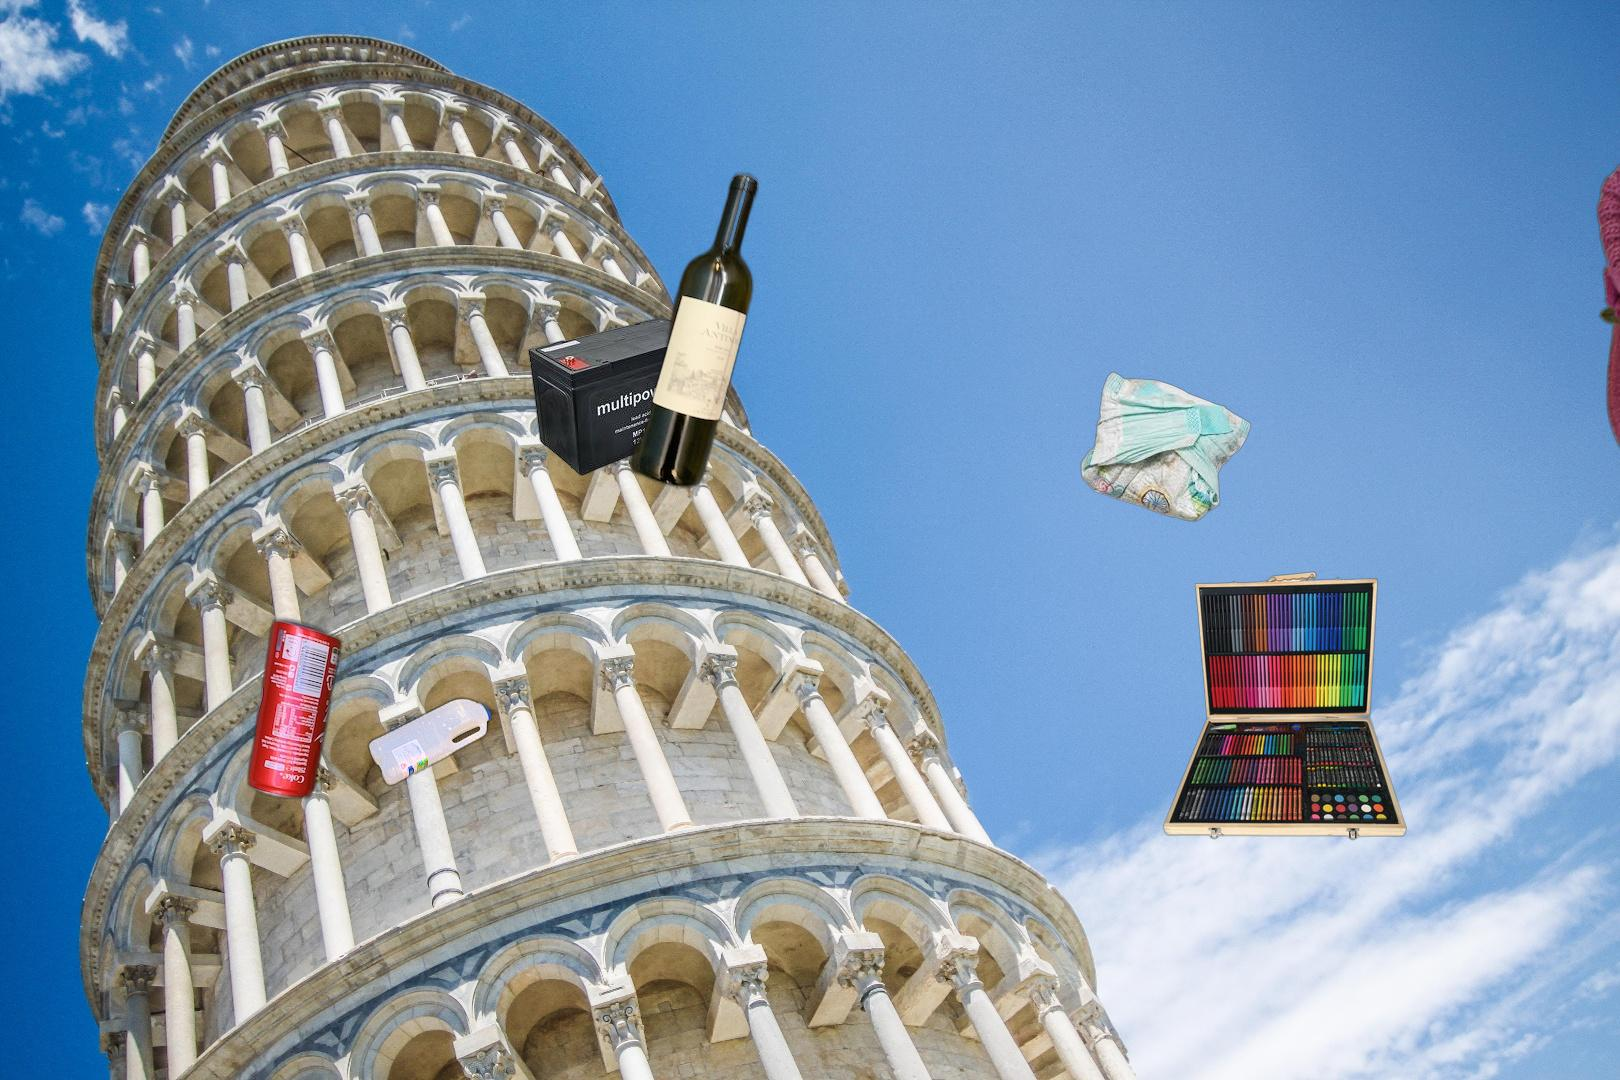battery: (526, 315, 717, 479)
glass: (627, 168, 763, 494)
metal-cans: (243, 493, 740, 1080)
penholder: (1160, 570, 1430, 851)
plastic-bottles: (364, 692, 495, 791)
shoes: (1593, 153, 1620, 492)
trash: (1078, 369, 1254, 524)
